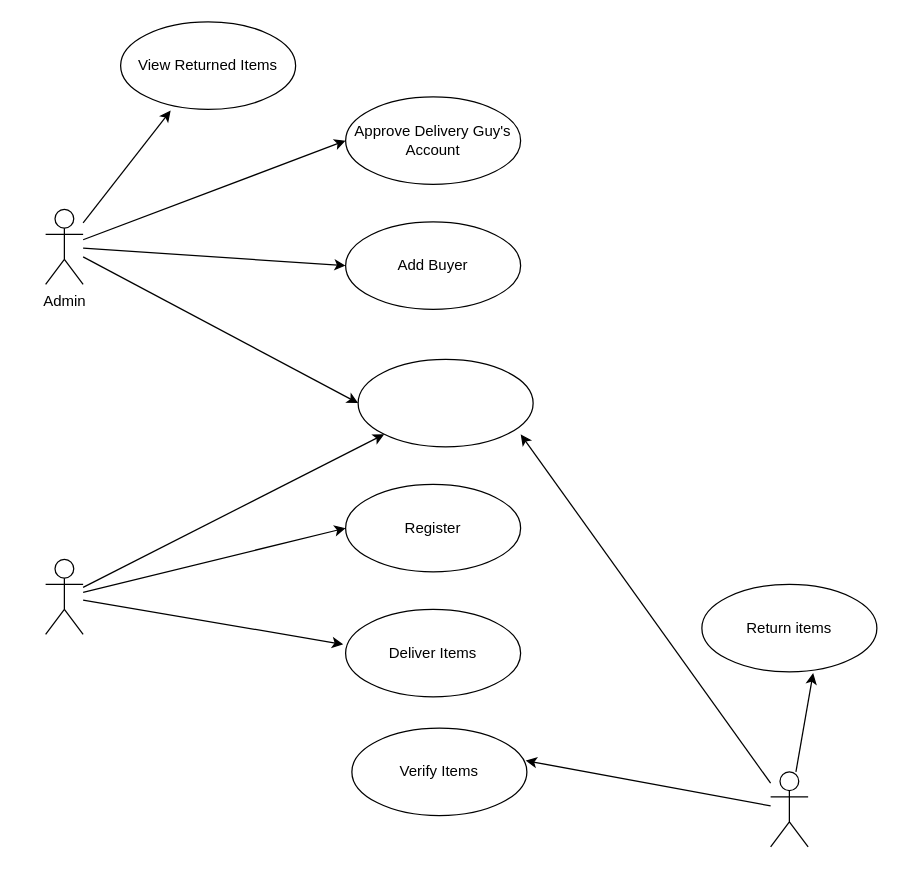
Image size: 899x895. Some labels were removed from this diagram. The box of each missing label's shape, as (x1, y1, x2, y2) in pixels:
Buyer: (769, 771, 808, 847)
Delivery Guy: (44, 558, 83, 634)
Login: (357, 358, 533, 447)
